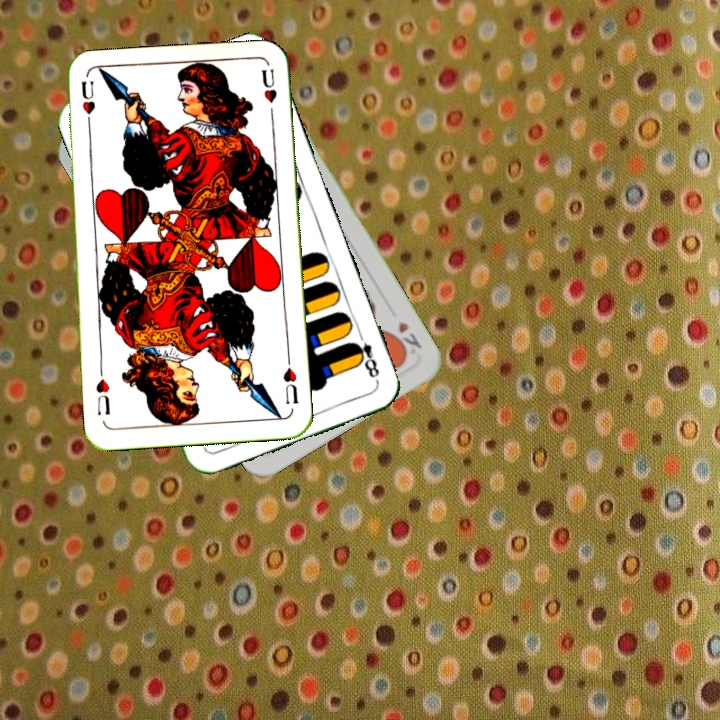E8: (348, 327, 382, 385)
HK: (388, 317, 424, 359)
HU: (279, 353, 301, 407), (78, 76, 97, 135)
